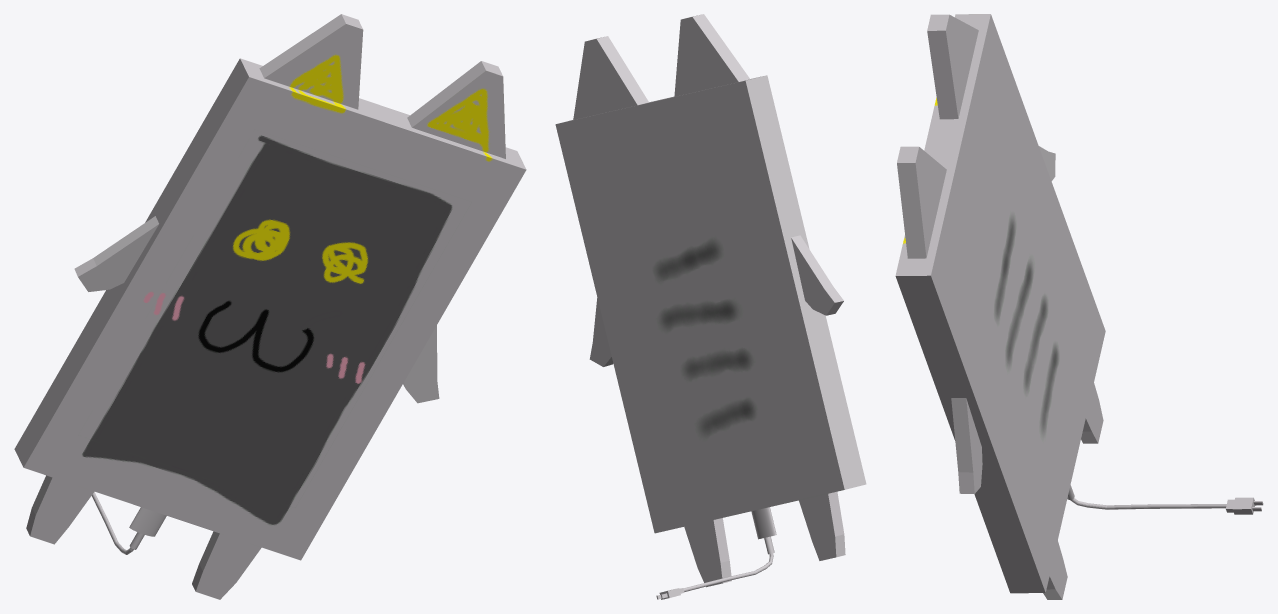
The model's file is sumahonekoArange.fbx.
3 renders of one model, left to right at view 1: azimuth 30°, elevation 25°; view 2: azimuth 150°, elevation 25°; view 3: azimuth 270°, elevation 25°, orthographic. The views are drawn at different scales.
Visible parts, largest first — view 1: node_id5; view 2: node_id5; view 3: node_id5.
Part boxes in pixels (x1,y1,x2,y2): node_id5: (14, 14, 526, 599); node_id5: (555, 14, 866, 599); node_id5: (895, 14, 1263, 599).
Bounding box in the file's own units: 0.3201 × 0.4322 × 0.2316.
Materials: 1 (1 with a texture image).
